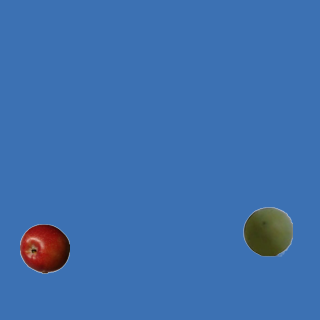Apple Braeburn: (19, 223, 69, 273)
Grape White 4: (242, 206, 292, 256)
